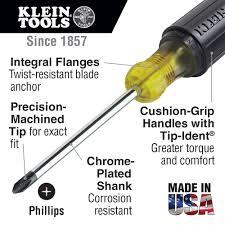screwdriver: (10, 167, 40, 194)
